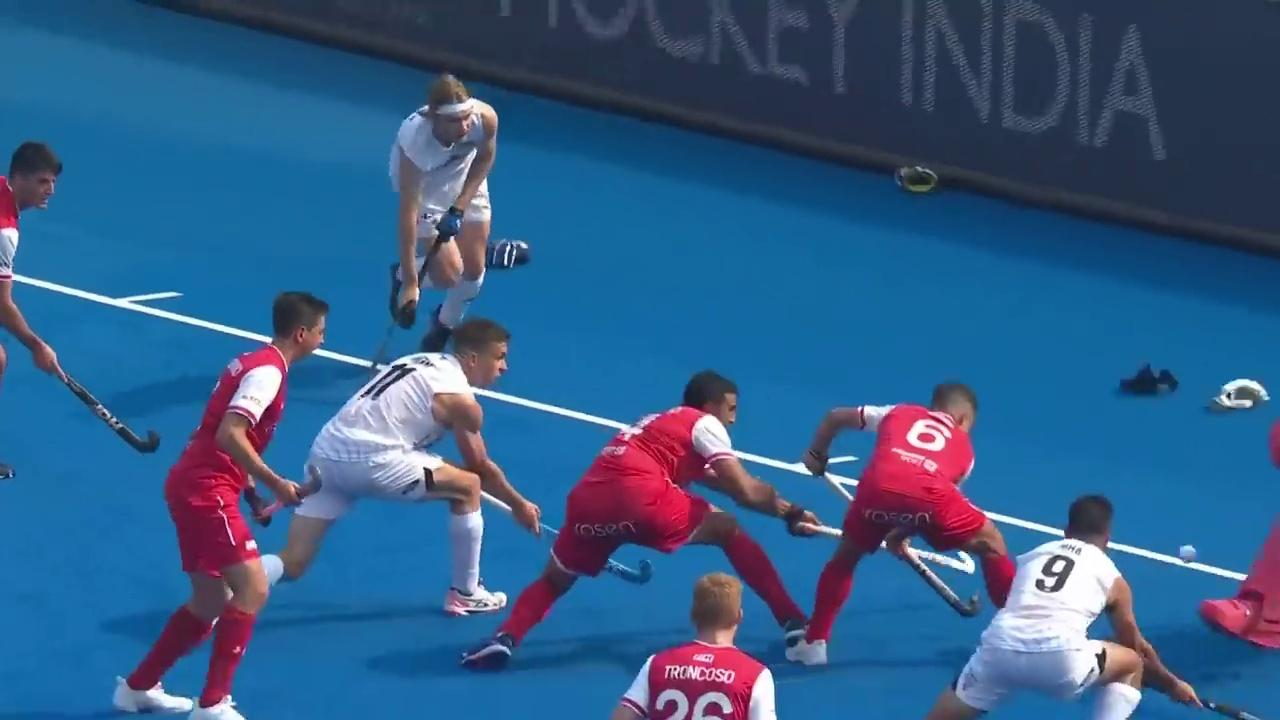ball: (1170, 534, 1205, 571)
